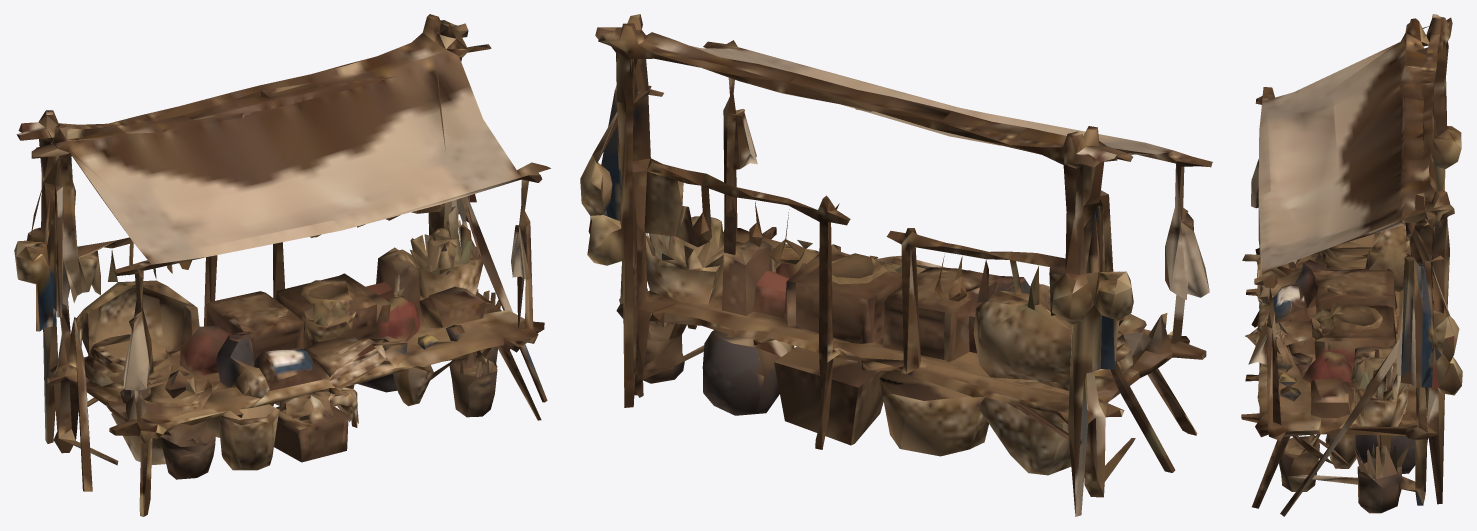
File: 10_Miscellaneous_Household_Stall_LOD2.fbx
3 views of the same model, side by side, from view 1: azimuth 30°, elevation 25°; view 2: azimuth 150°, elevation 25°; view 3: azimuth 270°, elevation 25° (orthographic). The views are drawn at different scales.
Parts seen in each view (by area): view 1: 10_Miscellaneous_Household_Stall_L2; view 2: 10_Miscellaneous_Household_Stall_L2; view 3: 10_Miscellaneous_Household_Stall_L2.
Boxes of the visible parts, box(x1,y1,x2,y2) form: 10_Miscellaneous_Household_Stall_L2: box(14, 14, 550, 516); 10_Miscellaneous_Household_Stall_L2: box(580, 14, 1212, 516); 10_Miscellaneous_Household_Stall_L2: box(1241, 14, 1462, 516).
Bounding box in the file's own units: 3.52 × 2.4 × 1.54.
